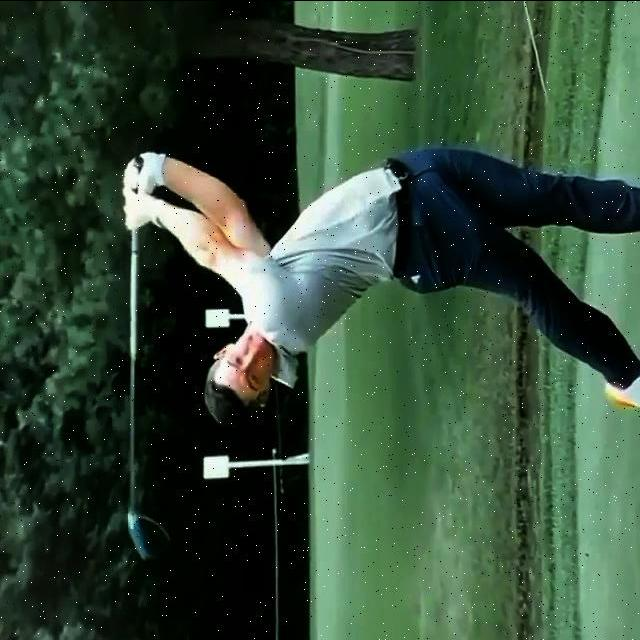golf club-handle: (126, 154, 174, 559)
golf club-head: (126, 512, 174, 558)
